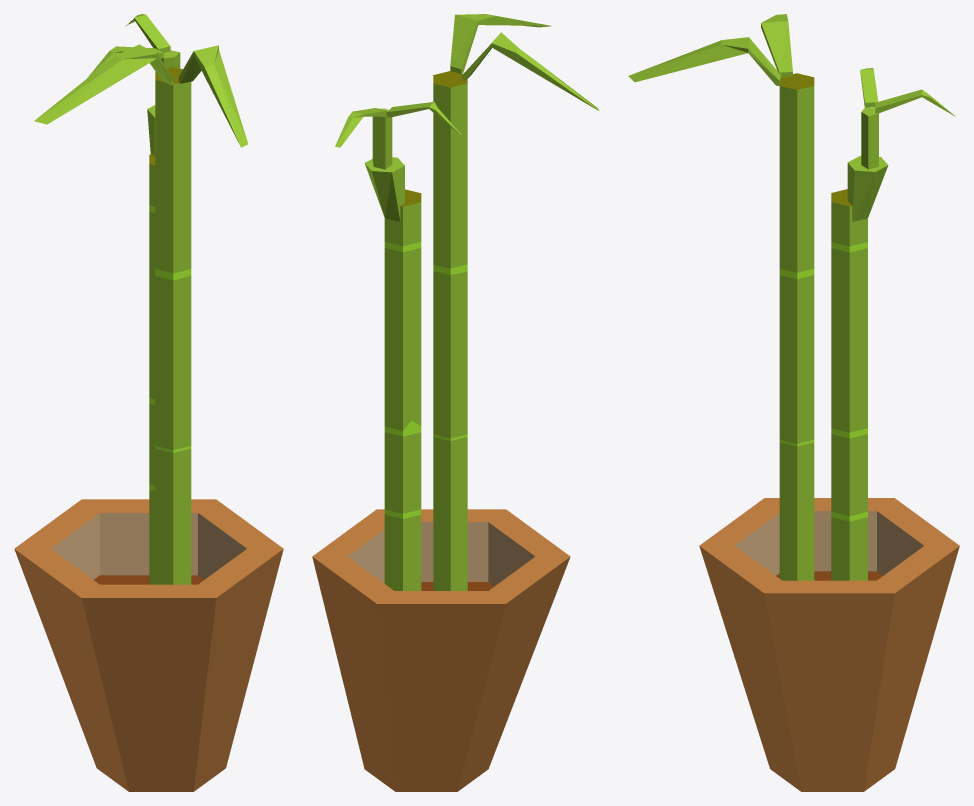
The model's file is BambooPlant.dae.
3 renders of one model, left to right at view 1: azimuth 30°, elevation 25°; view 2: azimuth 150°, elevation 25°; view 3: azimuth 270°, elevation 25°, orthographic. The views are drawn at different scales.
Parts seen in each view (by area): view 1: Group_9 (×13); view 2: Group_9 (×13); view 3: Group_9 (×12).
Part boxes in pixels (x1,y1,x2,y2): Group_9 (×13): (14,14,283,791); Group_9 (×13): (312,14,598,791); Group_9 (×12): (628,14,959,791).
Size of the model in its own units: 25.68 by 31.63 by 76.44.
